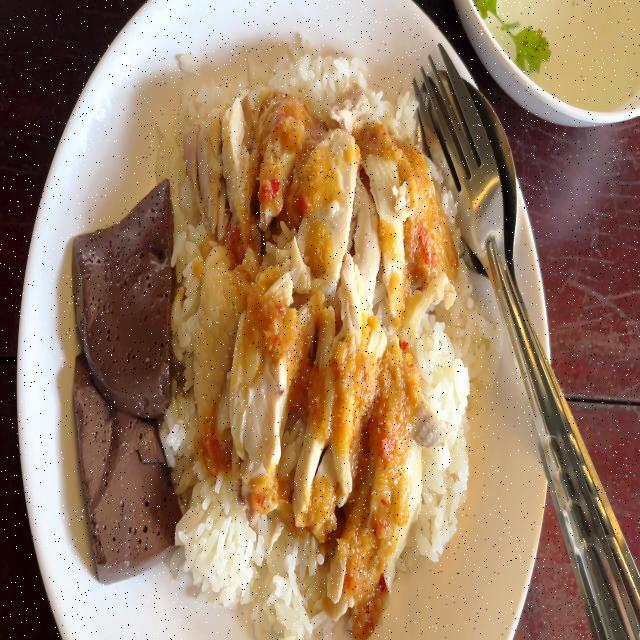boiled_chicken: (191, 103, 424, 508)
boiled_chicken_blood_jelly: (67, 170, 173, 426), (63, 350, 174, 578)
chicken_rice: (61, 45, 476, 640)
